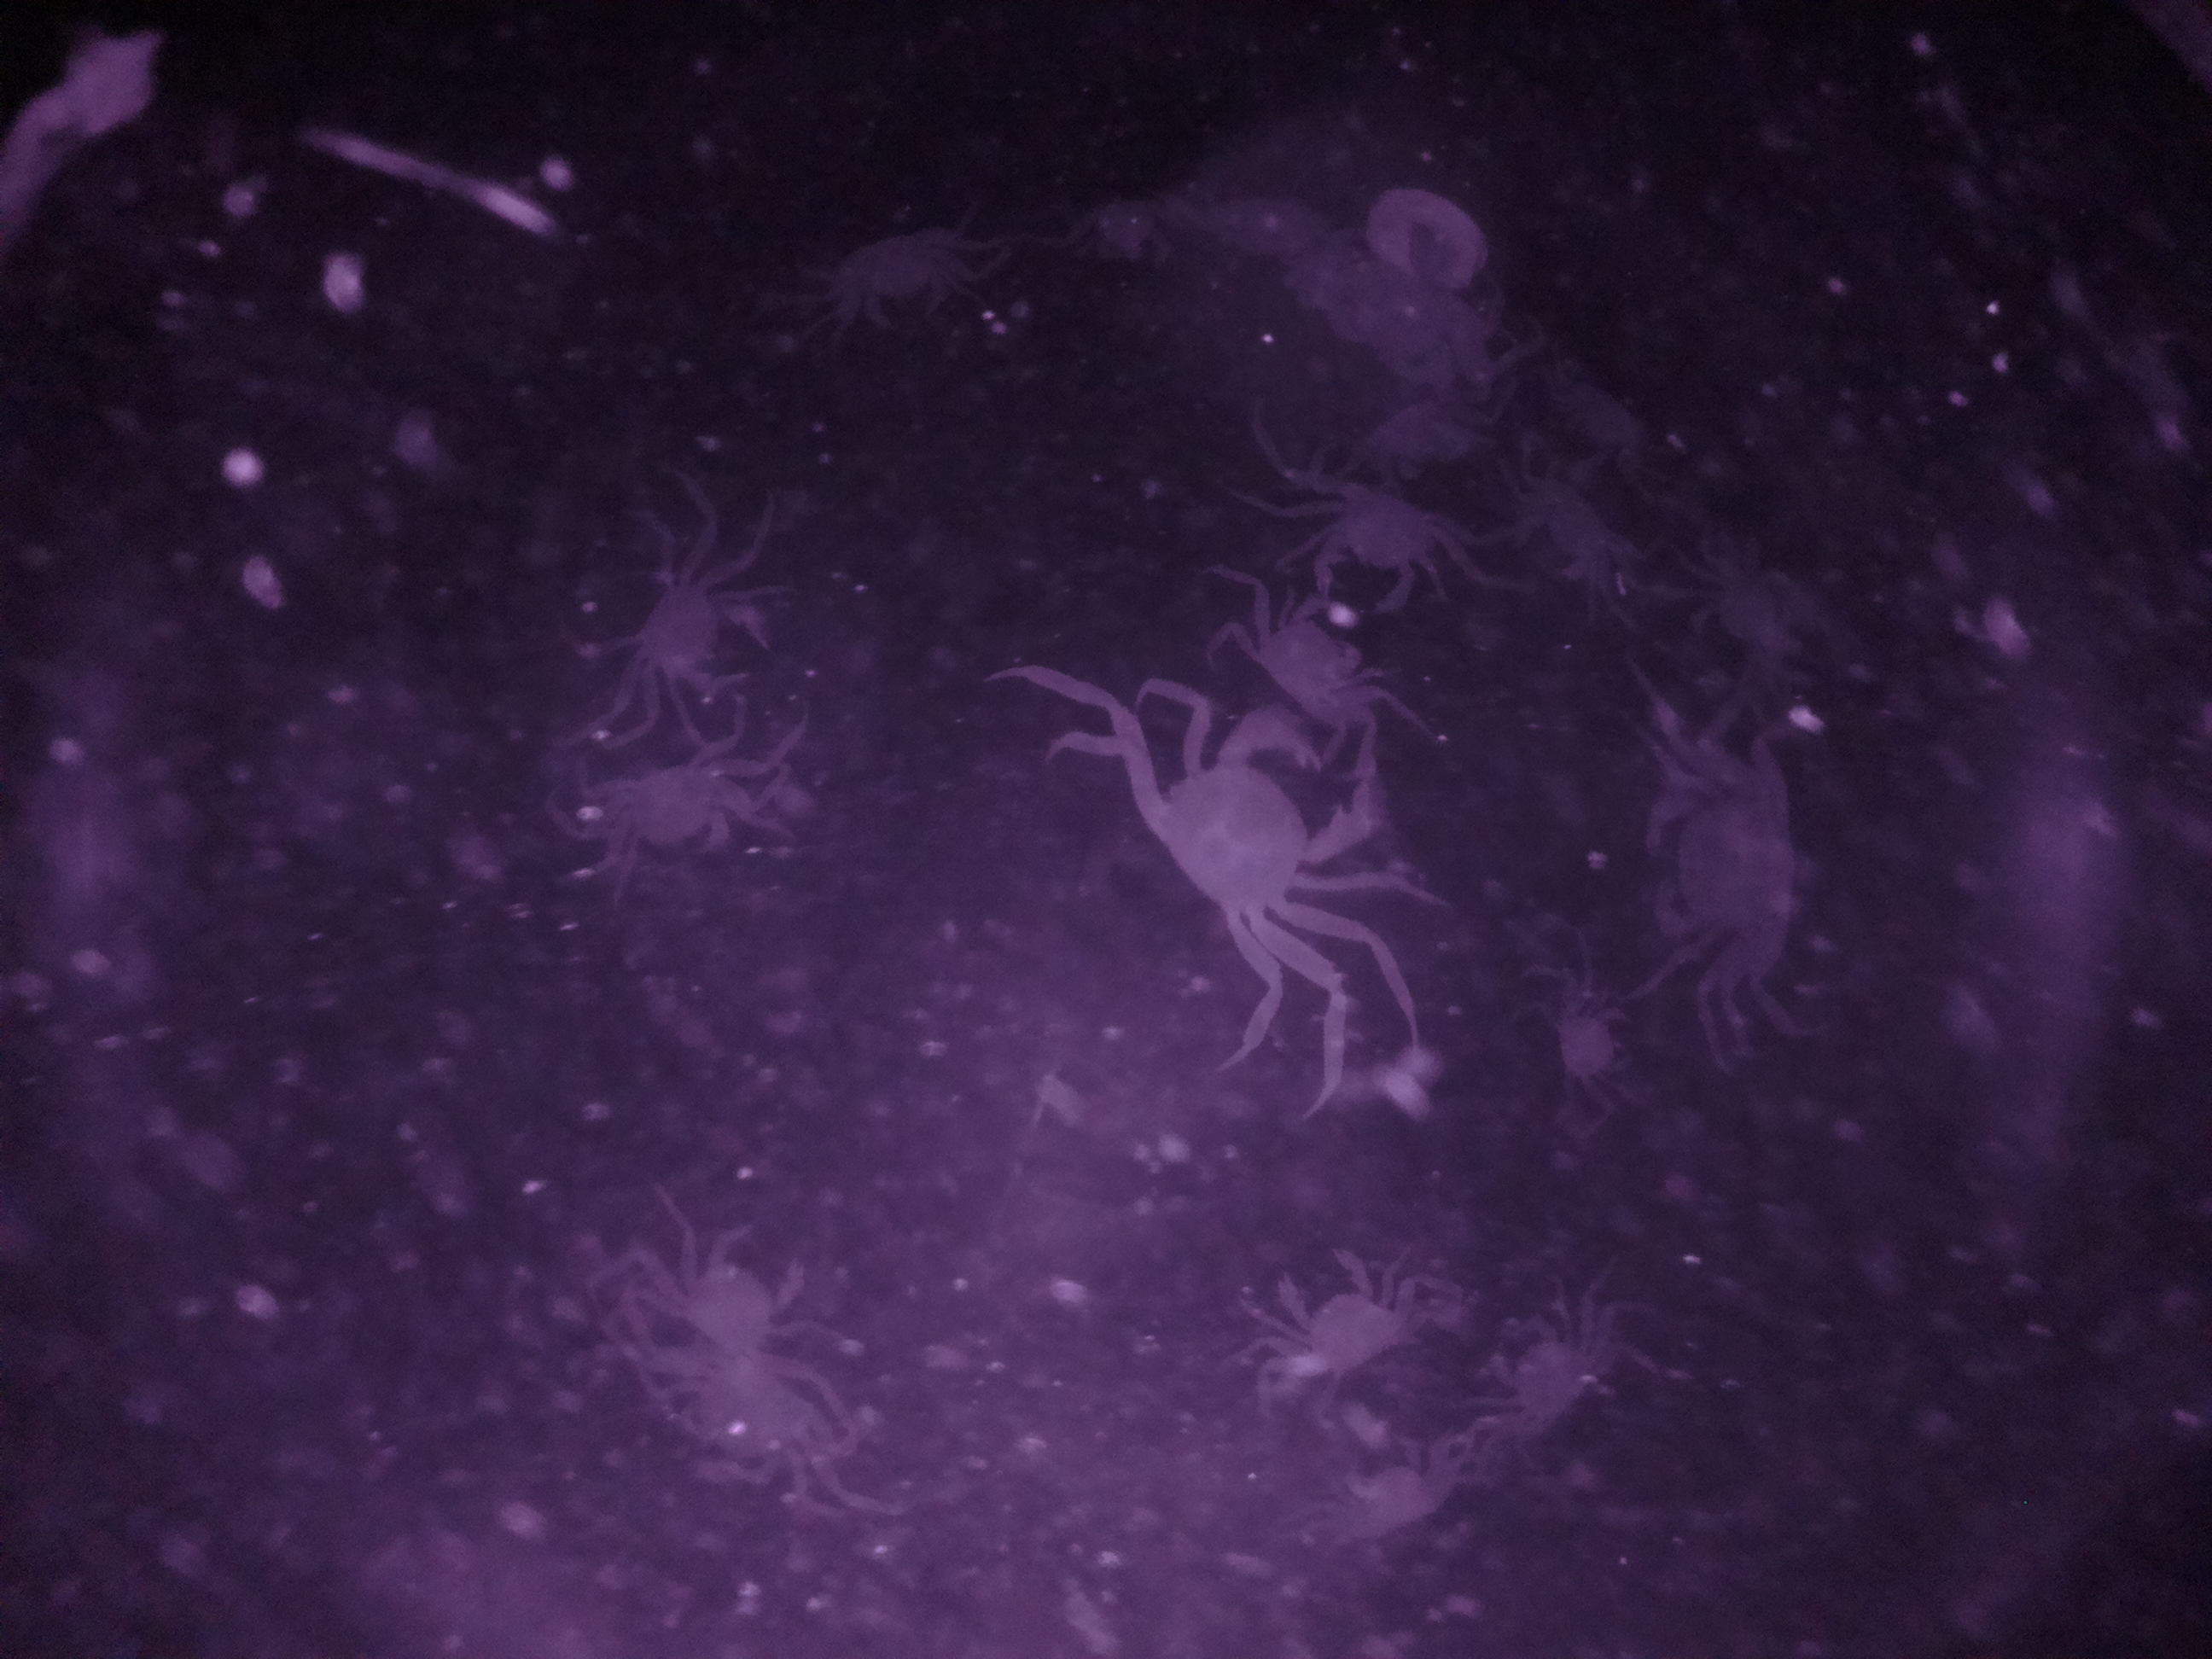Crab: (1125, 708, 1400, 953), (1635, 737, 1822, 986), (1294, 460, 1475, 643), (566, 742, 782, 894), (1252, 1229, 1428, 1406), (599, 570, 787, 720)
